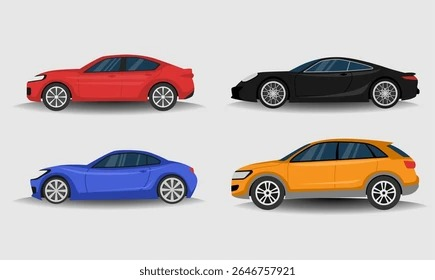car: (226, 138, 414, 209), (233, 54, 417, 108), (31, 149, 201, 205), (26, 54, 199, 109)
